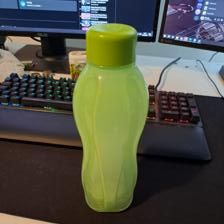bottle: (75, 20, 149, 211)
